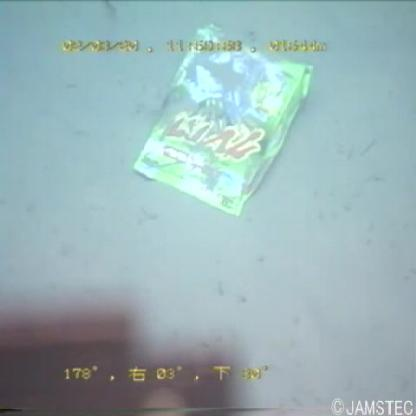Rác: (123, 18, 325, 233)
